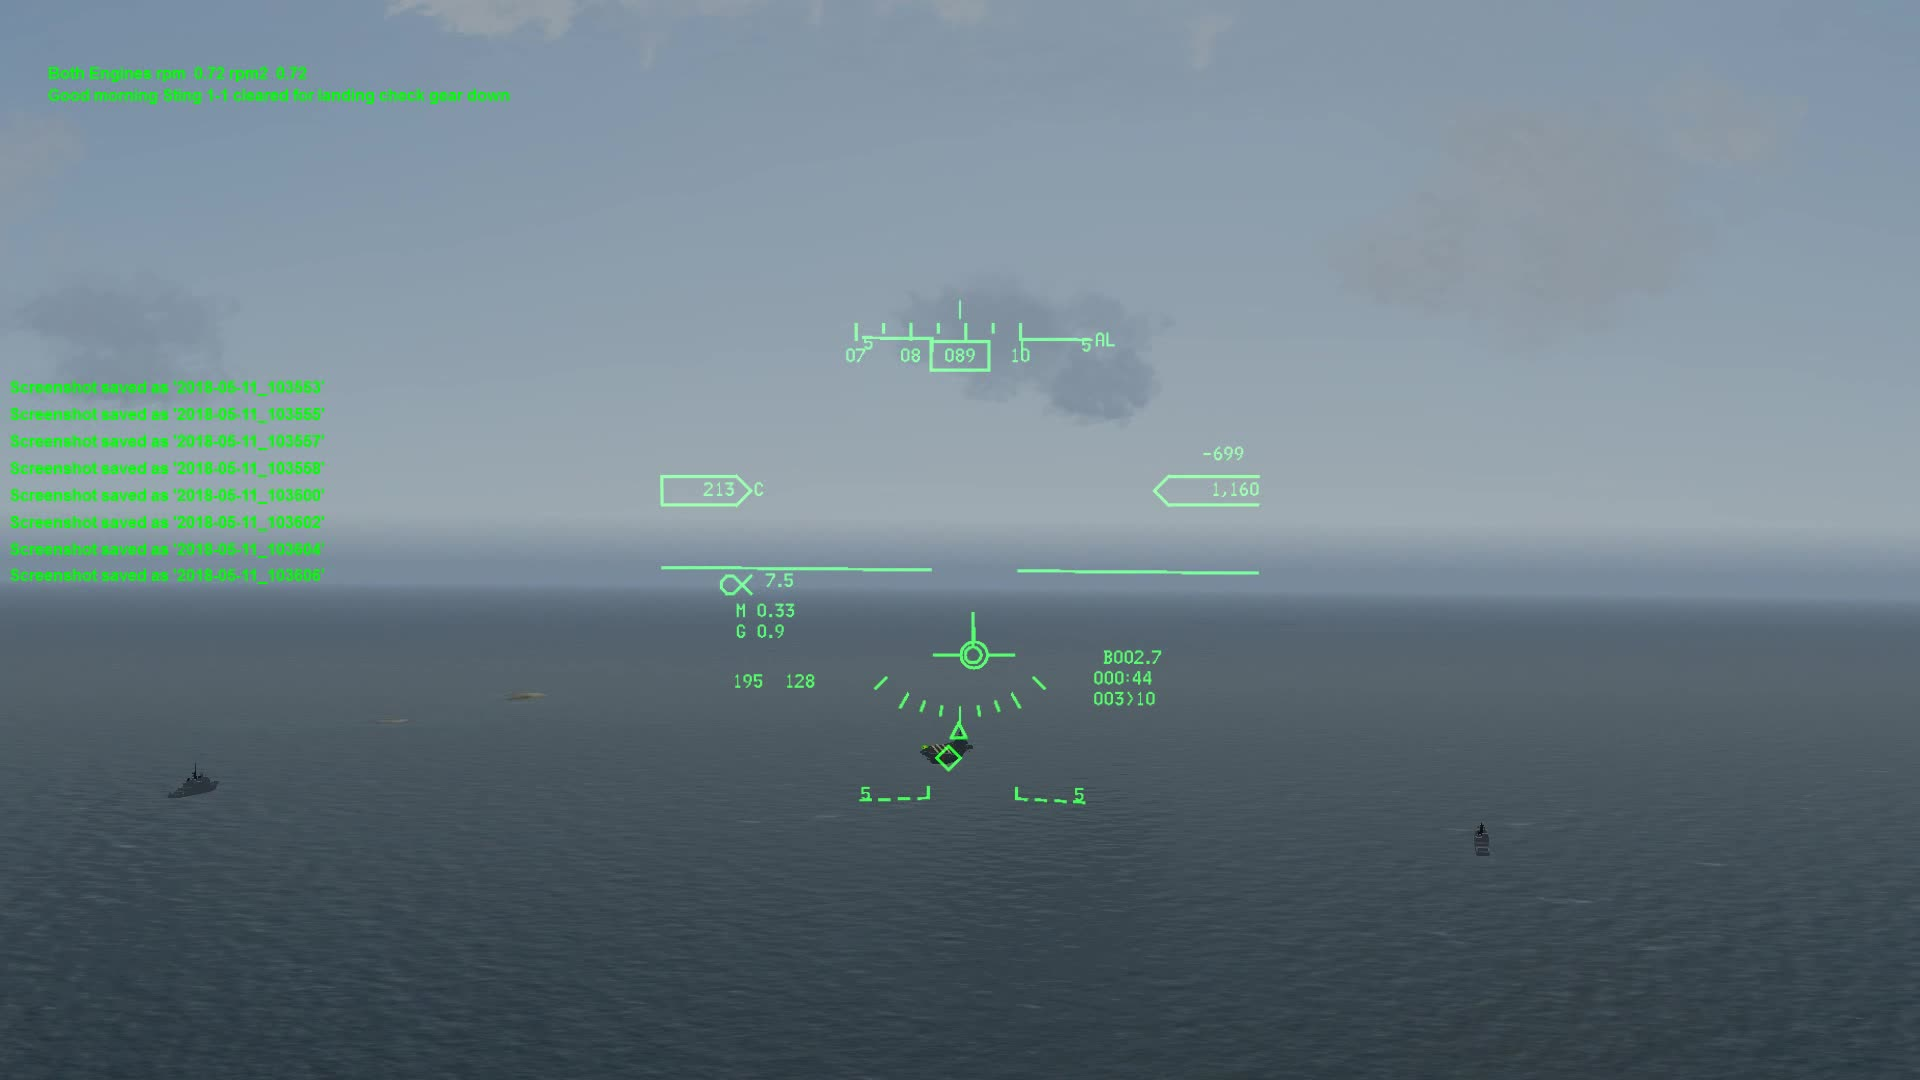speed vector: (907, 608, 1021, 674)
